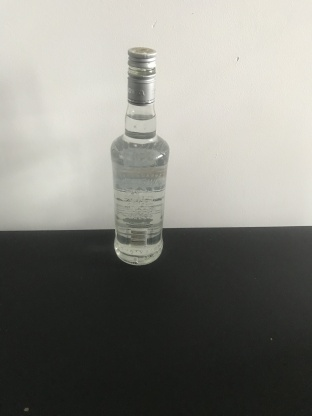nakretka: (126, 44, 157, 106)
